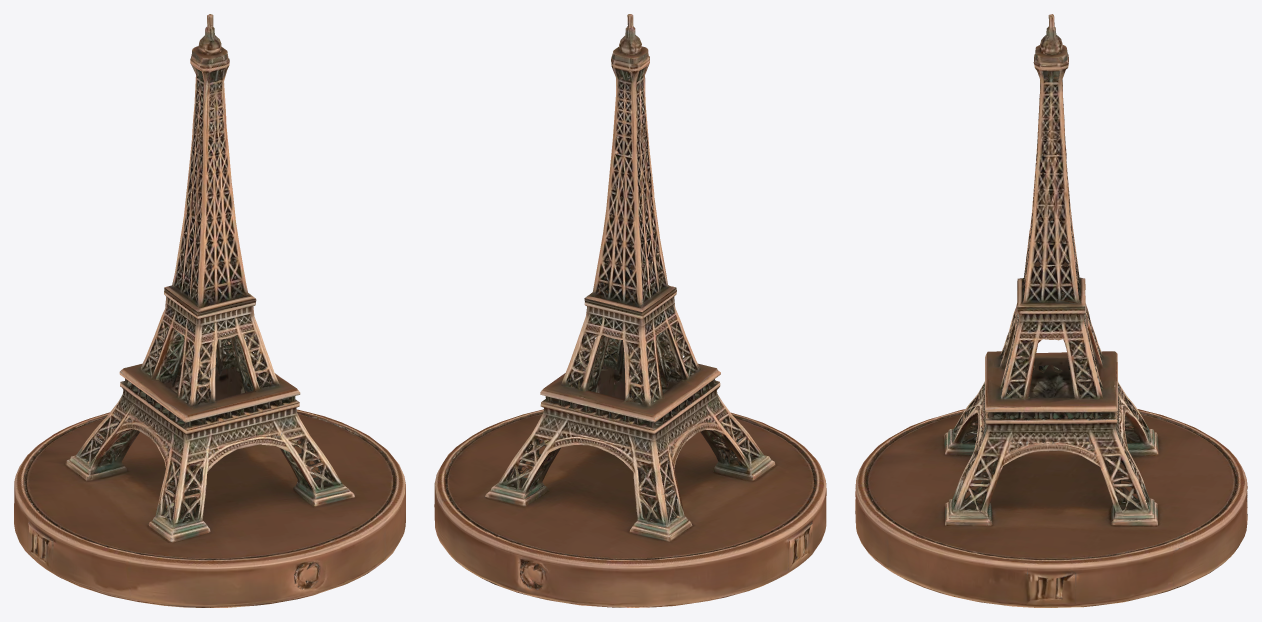
The model's file is eiffel_tower.glb.
3 views of the same model, side by side, from view 1: azimuth 30°, elevation 25°; view 2: azimuth 150°, elevation 25°; view 3: azimuth 270°, elevation 25° (orthographic).
Visible parts, largest first — view 1: Mesh_0; view 2: Mesh_0; view 3: Mesh_0.
Boxes of the visible parts, <box> form: Mesh_0: <box>14,14,405,607</box>; Mesh_0: <box>434,14,826,607</box>; Mesh_0: <box>855,14,1247,607</box>.
Size of the model in its own units: 1.33 by 1.91 by 1.32.
Materials: 1 (1 with a texture image).
